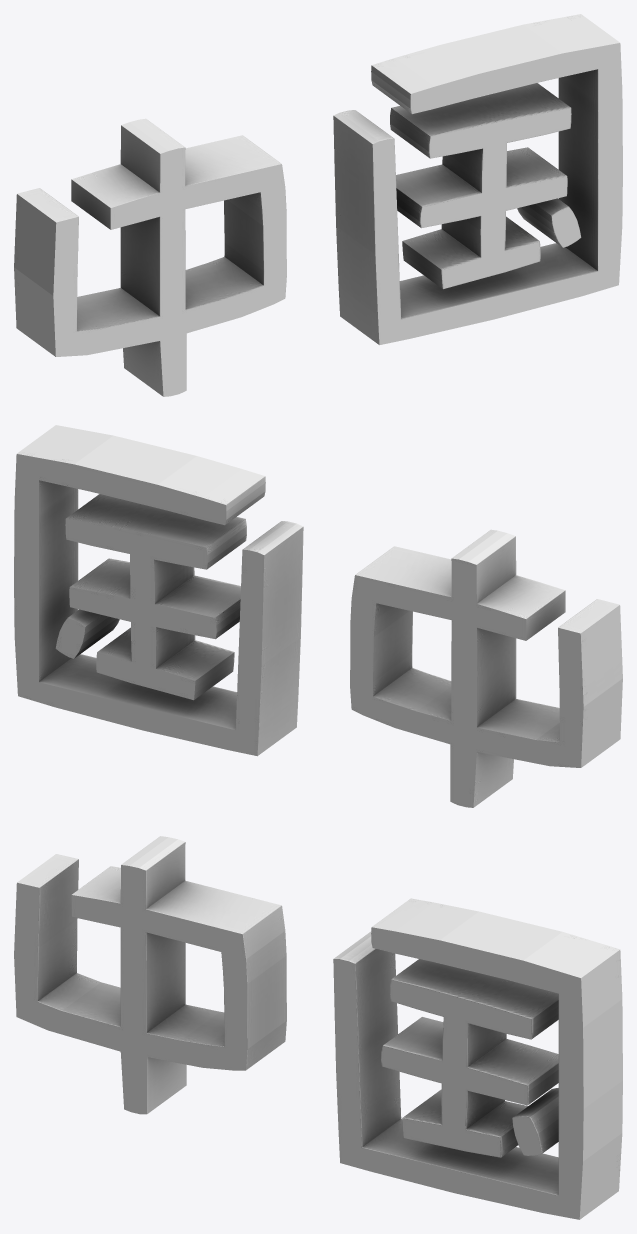
Rendered from china [chs].DAE.
The picture shows the model from 3 angles, top to bottom: view 1: azimuth 30°, elevation 25°; view 2: azimuth 150°, elevation 25°; view 3: azimuth 330°, elevation 25°; orthographic projection.
Visible parts, largest first — view 1: objpolymsh; view 2: objpolymsh; view 3: objpolymsh.
Part boxes in pixels (x1,y1,x2,y2): objpolymsh: (14, 14, 622, 396); objpolymsh: (14, 425, 622, 807); objpolymsh: (14, 836, 622, 1219).
Bounding box in the file's own units: 6.89 × 0.8242 × 2.88.
